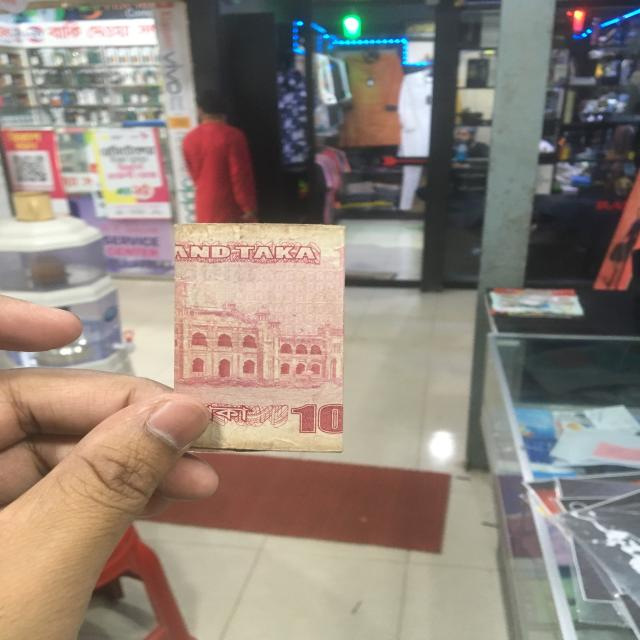Taka: (173, 222, 349, 452)
